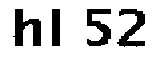2: (116, 7, 150, 51)
5: (82, 6, 114, 52)
h: (12, 3, 43, 52)
l: (48, 7, 66, 52)
